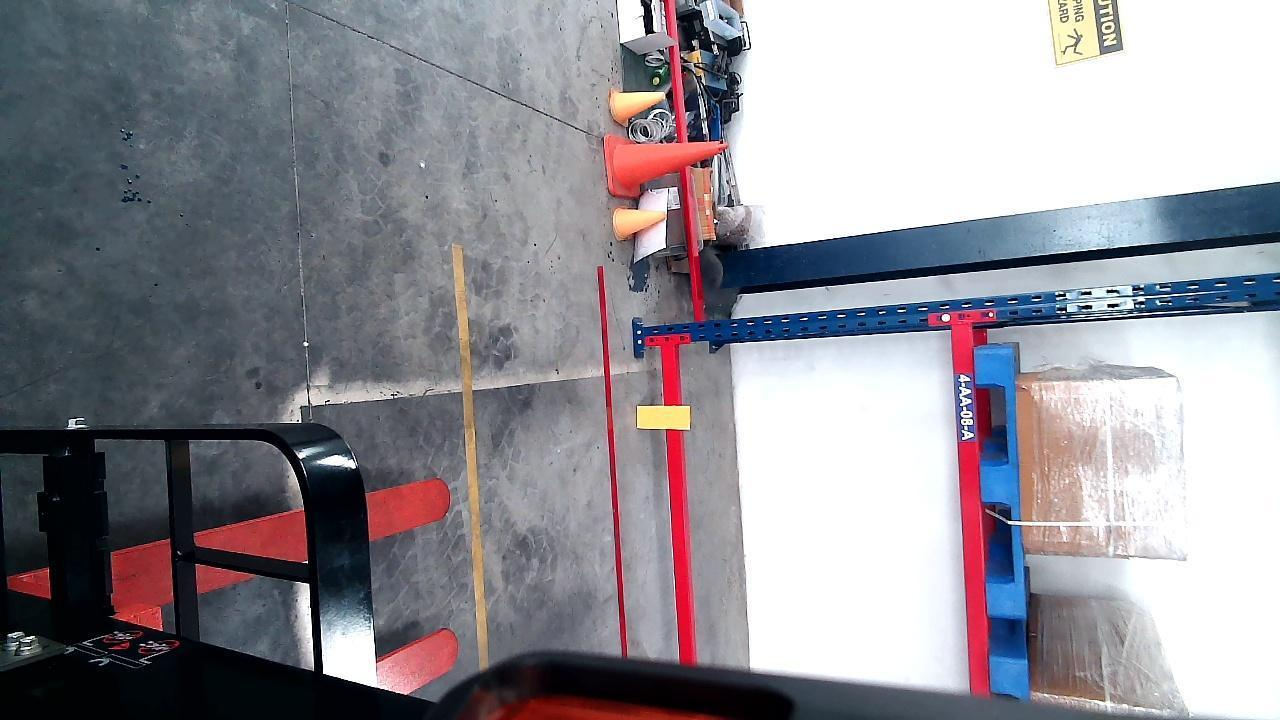h_rack: (661, 342, 702, 662), (955, 319, 987, 701)
orange_strip: (635, 403, 688, 430)
red_line: (593, 266, 633, 654)
small_pallet: (977, 345, 1023, 622)
yellow_line: (451, 247, 487, 669)
